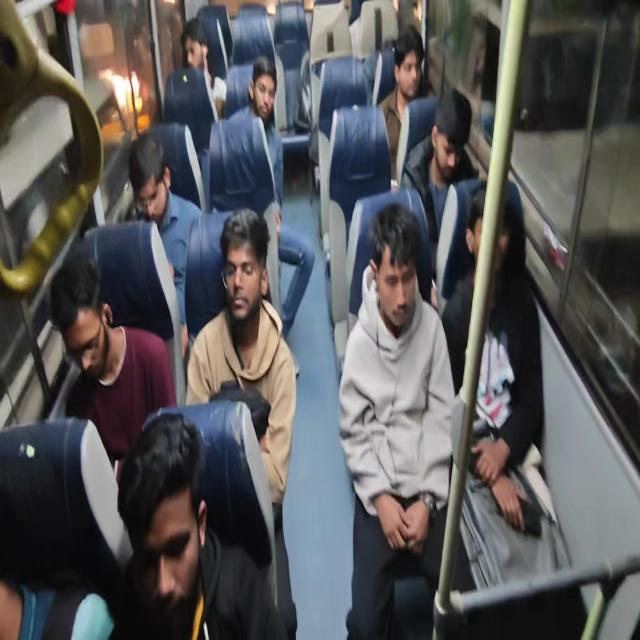person: (120, 396, 229, 602), (374, 204, 478, 393), (4, 233, 120, 379), (0, 477, 88, 640), (460, 182, 534, 328), (196, 198, 262, 327), (126, 130, 184, 236), (428, 84, 476, 188), (176, 18, 228, 96), (382, 35, 433, 103), (239, 62, 277, 125), (372, 22, 399, 58)
